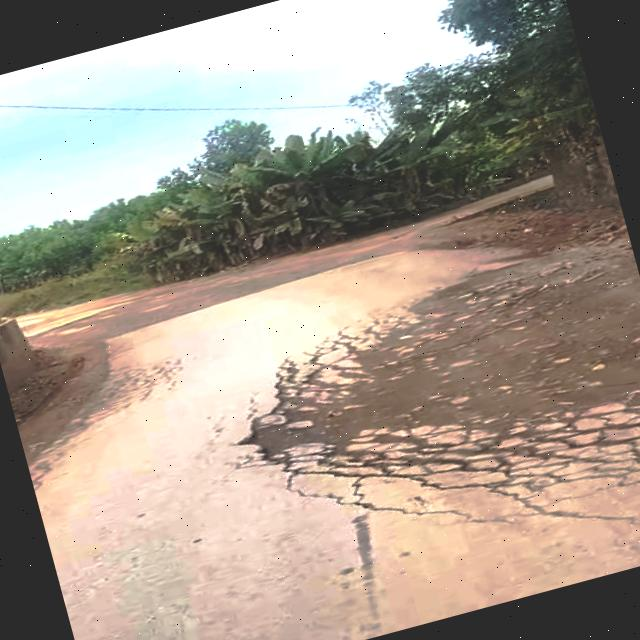pothole: (227, 227, 640, 558)
